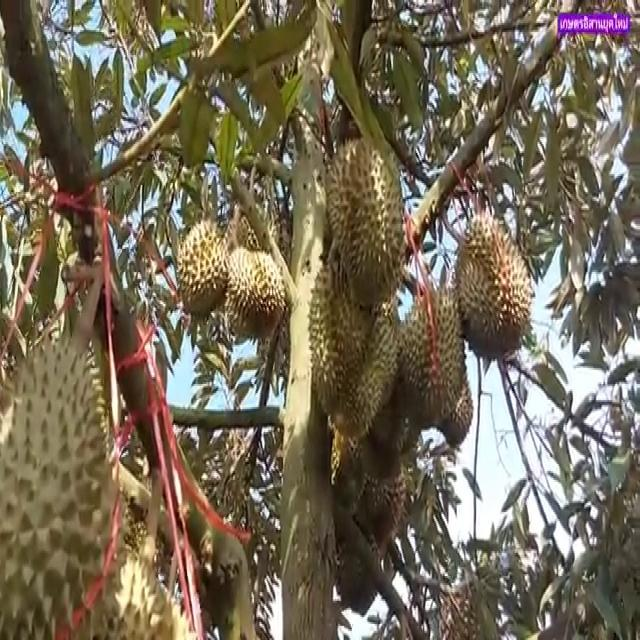durian: (1, 326, 129, 638), (306, 254, 402, 447), (322, 134, 408, 314), (451, 209, 536, 360), (392, 283, 467, 437), (175, 213, 233, 320), (222, 242, 288, 335)
